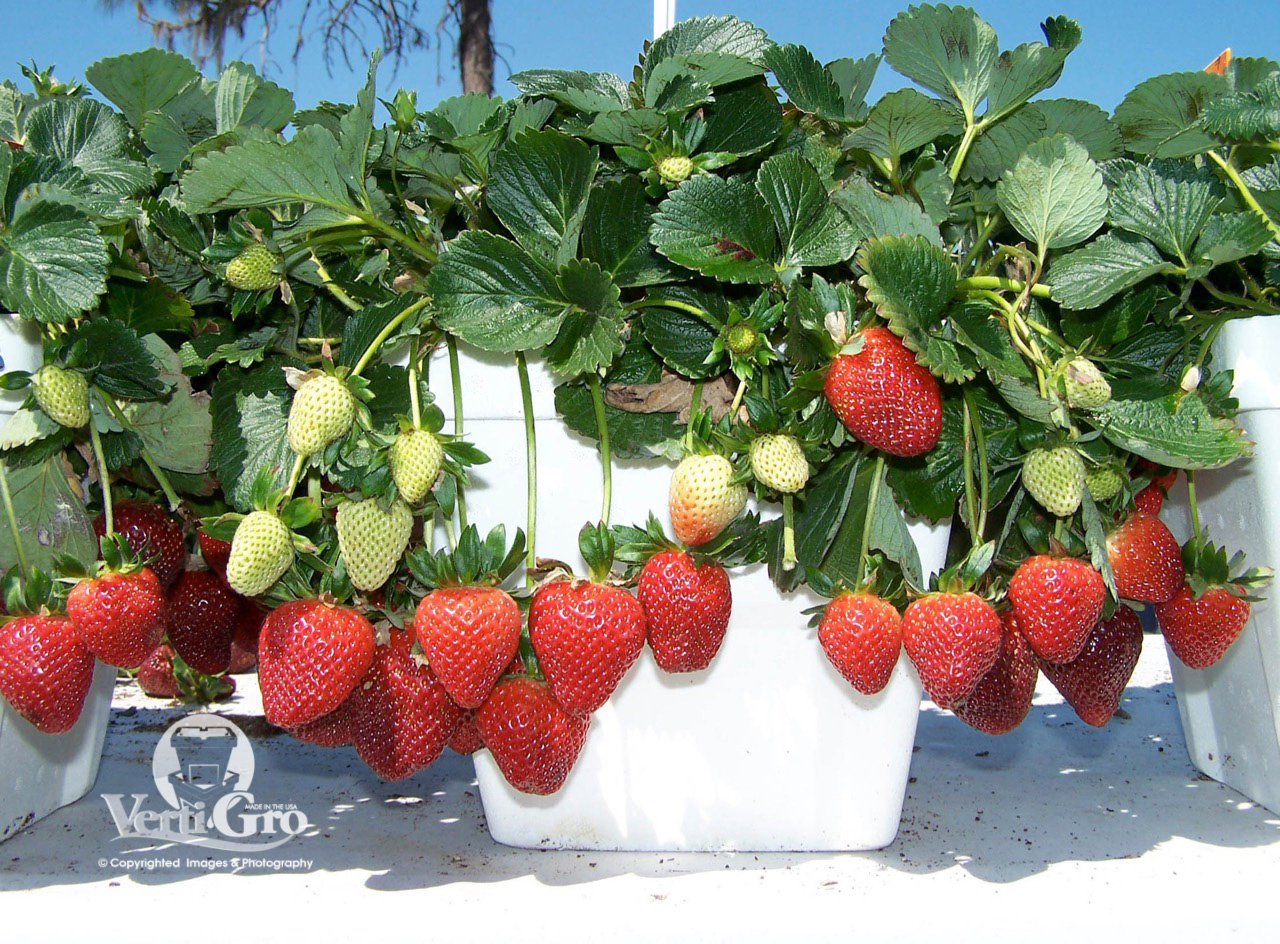ripe_strawberry: (342, 614, 472, 784), (526, 574, 650, 717), (256, 596, 379, 730), (824, 325, 944, 462), (471, 674, 595, 798), (412, 581, 525, 712), (1036, 598, 1146, 728), (901, 590, 1006, 713), (637, 546, 736, 676), (1007, 551, 1110, 668), (1, 613, 97, 737), (953, 606, 1043, 735), (66, 564, 171, 673), (92, 498, 192, 600), (447, 641, 536, 755), (1152, 579, 1254, 672), (817, 587, 902, 697), (1102, 509, 1189, 606), (166, 569, 237, 677), (1130, 455, 1180, 518), (284, 705, 348, 748), (136, 645, 184, 699)
unripe_strawberry: (333, 492, 417, 592), (667, 453, 751, 549), (224, 509, 300, 598), (284, 371, 362, 457), (385, 424, 450, 508), (1021, 440, 1087, 520), (30, 361, 96, 432), (749, 430, 812, 495), (224, 237, 289, 293), (1049, 355, 1114, 411), (1085, 458, 1128, 505), (656, 152, 699, 183)
